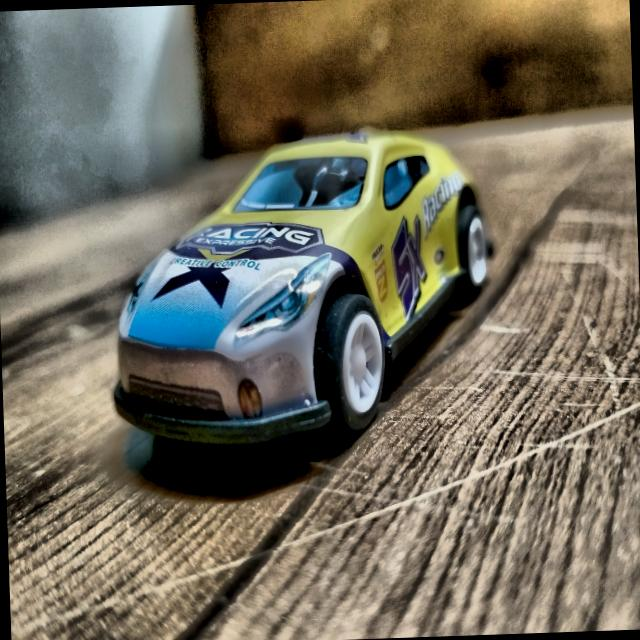Car: (105, 126, 498, 448)
